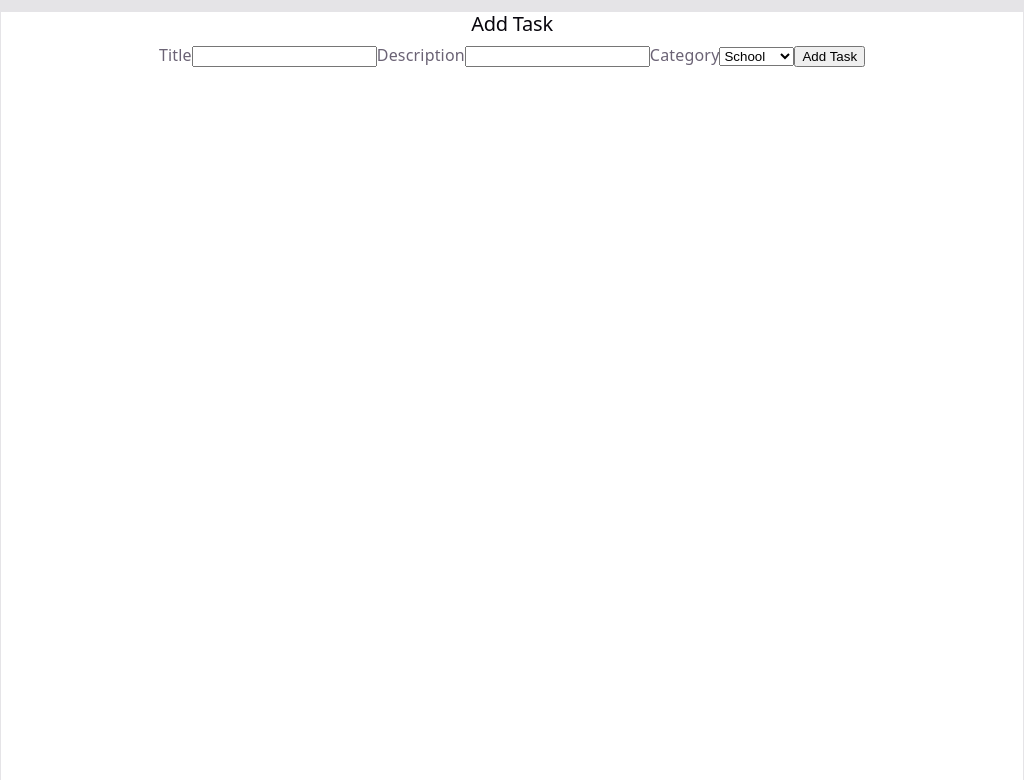
it: TaskForm facade integration › shows an error and keeps the input when createTask fails
Type "Study" into the field labelled "Title" at (284, 56), box [192, 46, 377, 67]
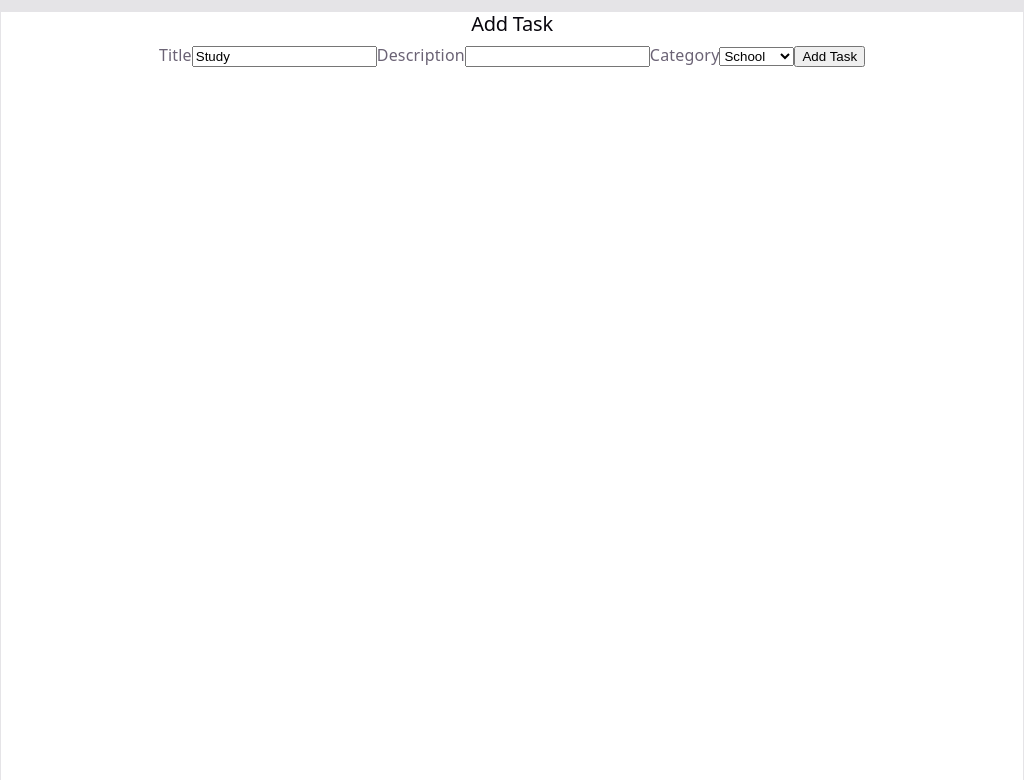
Type "Quiz review" into the field labelled "Description" at (557, 56), box [465, 46, 650, 67]
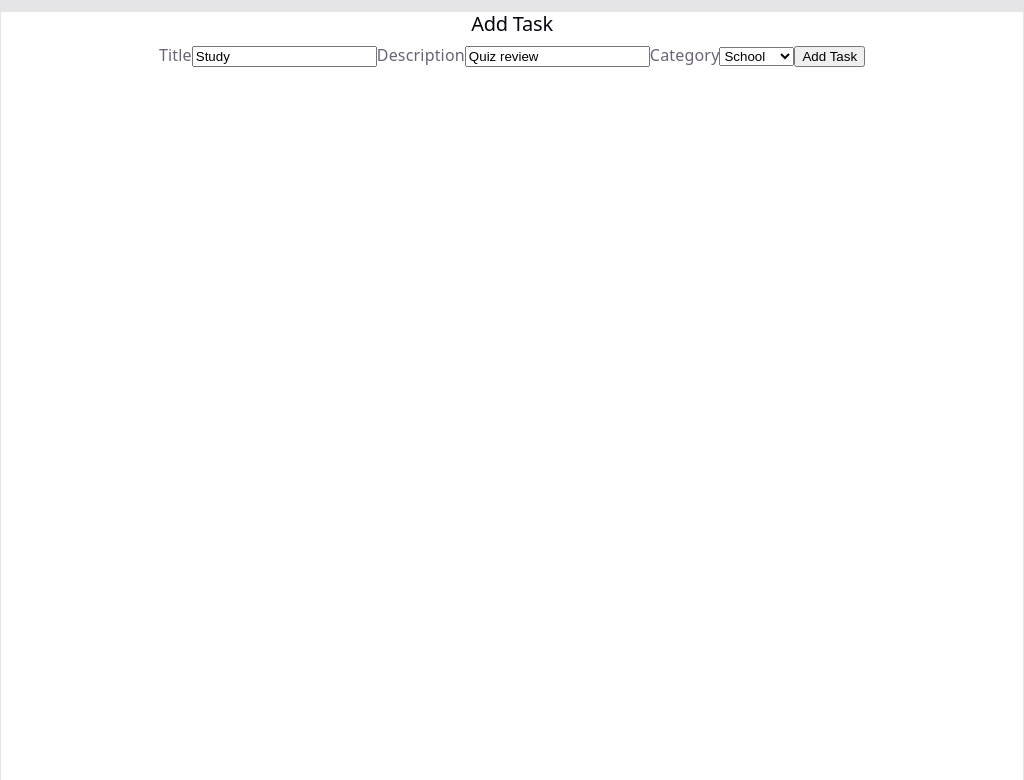
Click the button "Add Task" at (830, 56), box [794, 46, 865, 67]
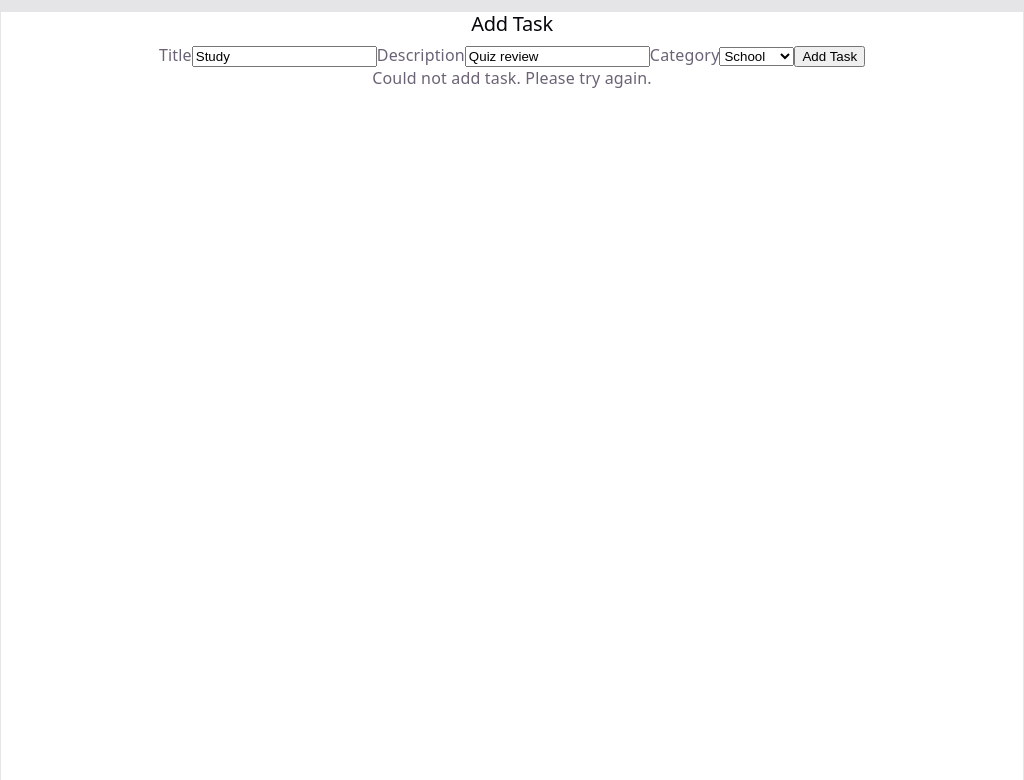
expect the message shows "Could not add task": met, box [372, 67, 652, 89]
